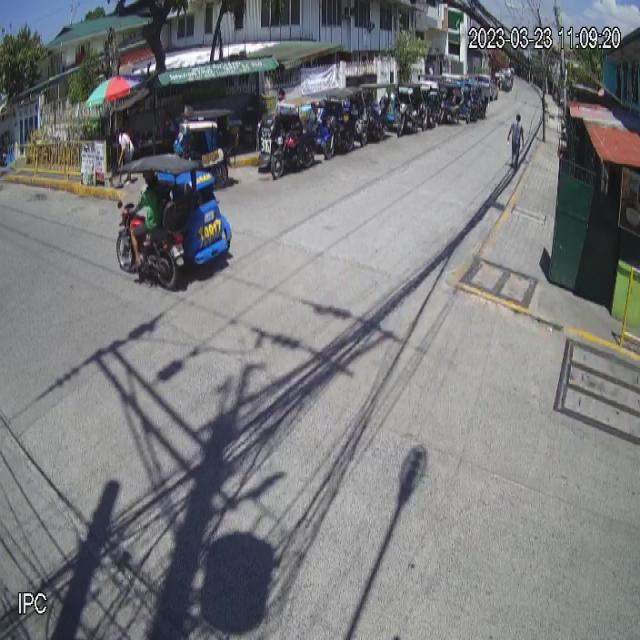Tricycle: (111, 154, 231, 294)
